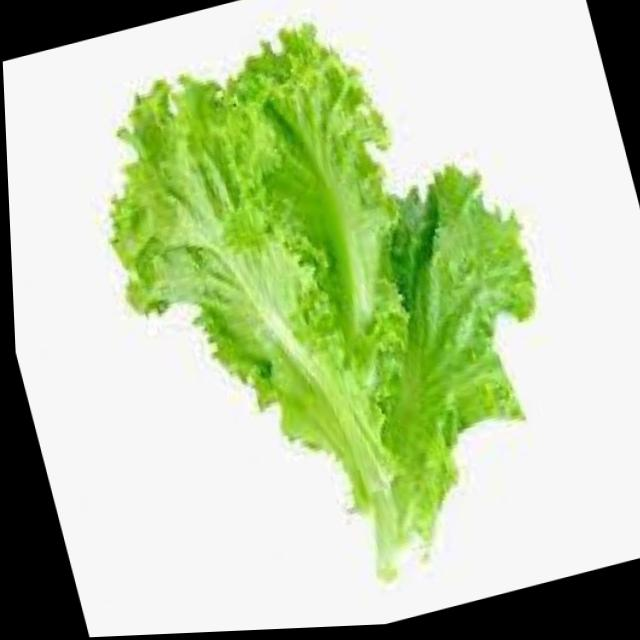Mature: (85, 24, 535, 561)
